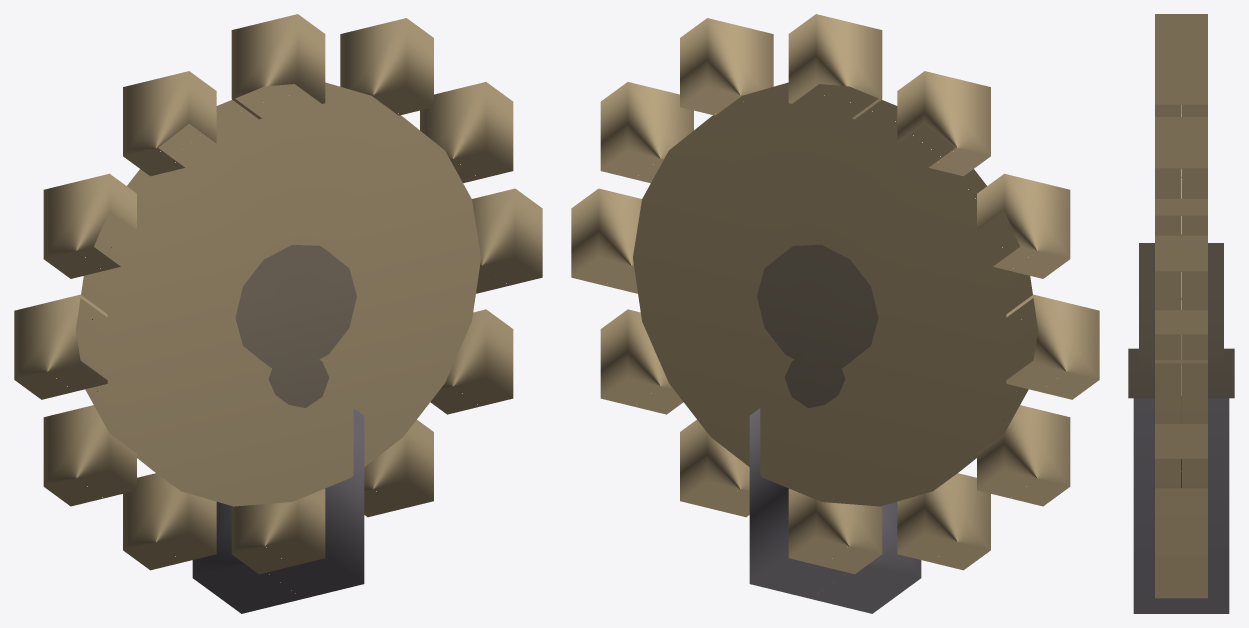
File: bg_gear.glb
3 views of the same model, side by side, from view 1: azimuth 30°, elevation 25°; view 2: azimuth 150°, elevation 25°; view 3: azimuth 270°, elevation 25° (orthographic). The views are drawn at different scales.
Bounding box in the file's own units: 106 × 111 × 20.
